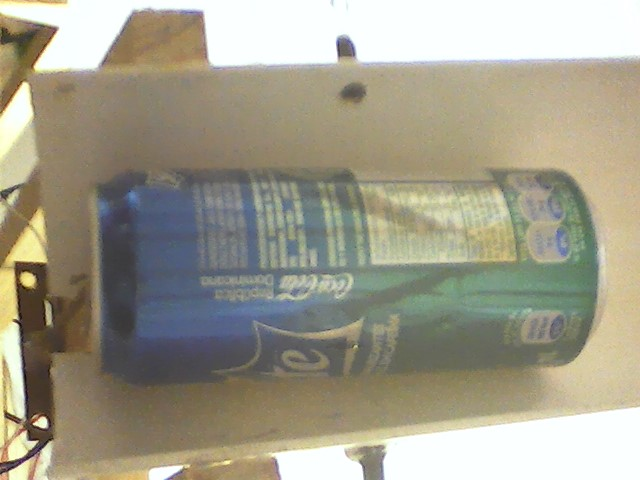lata: (80, 151, 614, 394)
